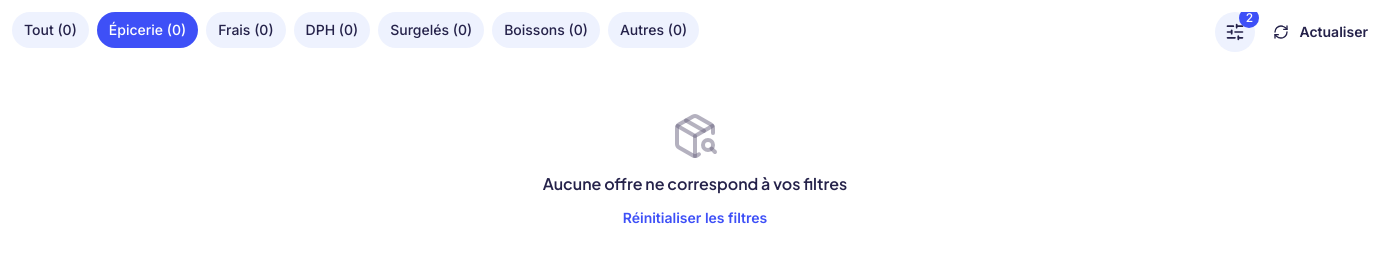
StoreOfferList › empty state with advanced filters › "Réinitialiser les filtres" resets all filters including brand
Expected: the text "Aucune offre ne correspond à vos filtres" is shown, [543,172,847,196]
Click the button "Réinitialiser les filtres". click: (695, 218)
box: [607,200,783,236]
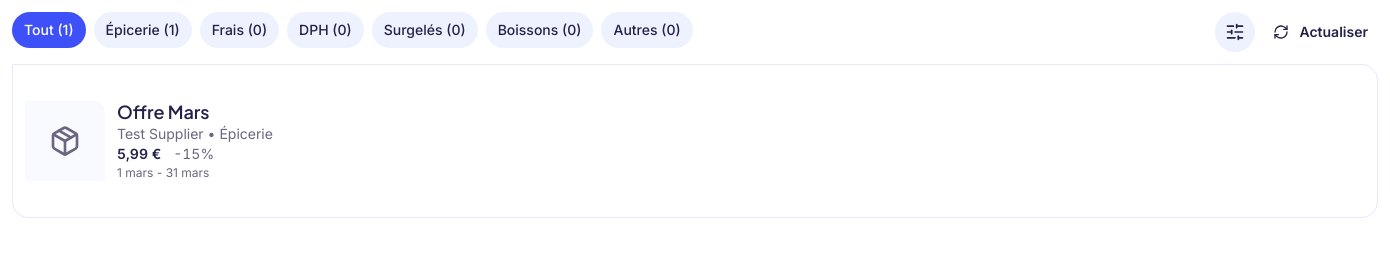
Now the heading "Offre Mars" is shown, box [117,100,210,123]
